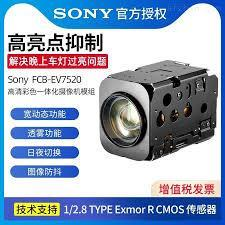tutu: (99, 59, 217, 162)
